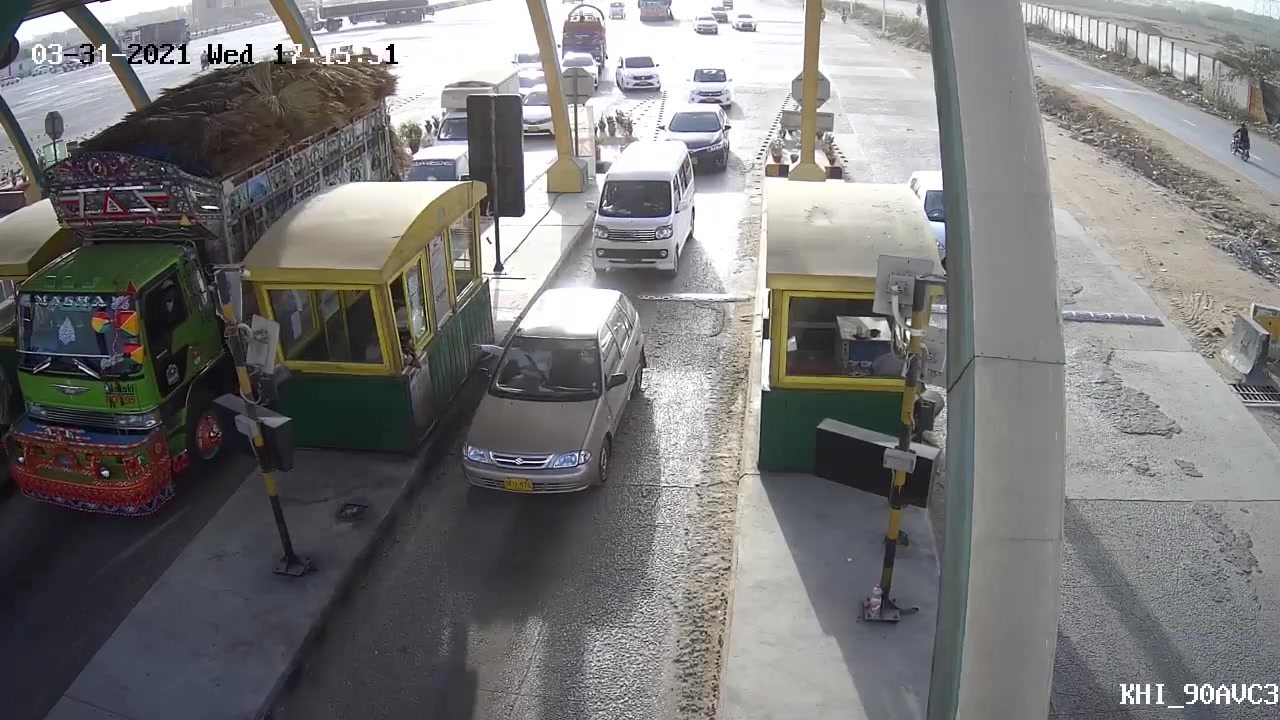F1: (453, 290, 661, 507), (579, 130, 705, 281)
